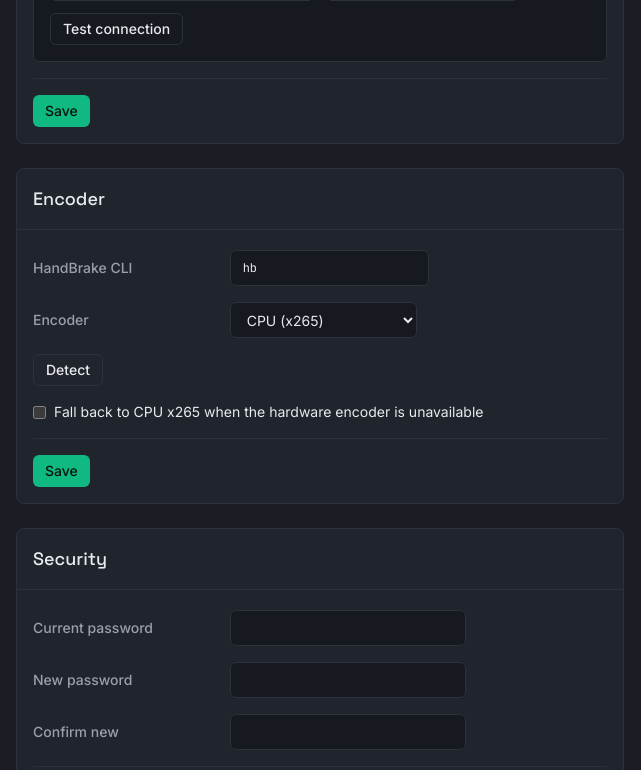
it: detect shows availability badges
(page scrolled)
Click the button "Detect".
click(68, 370)  # box [33, 354, 103, 386]
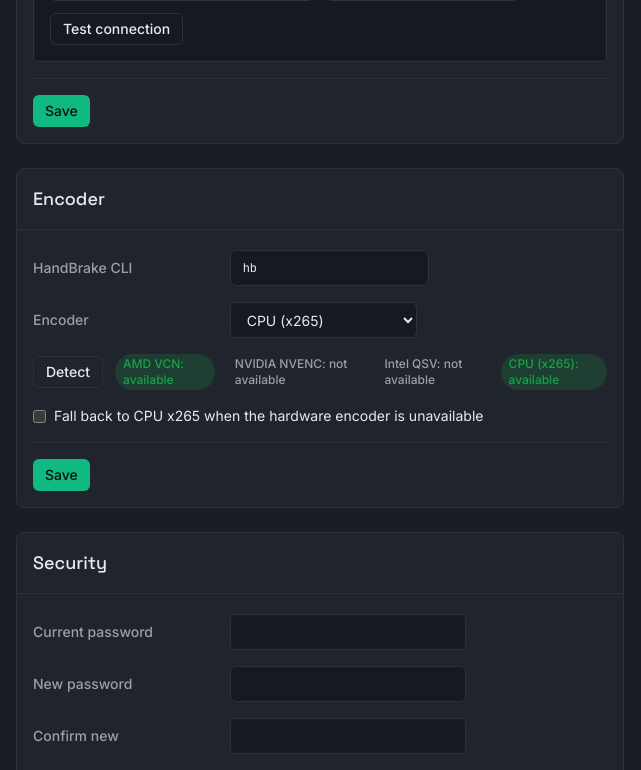
Now the text with test id "enc-avail-vcn" reads "AMD VCN: available", box [115, 354, 215, 390]
Now the text with test id "enc-avail-nvenc" shows "not available", box [235, 356, 347, 387]
